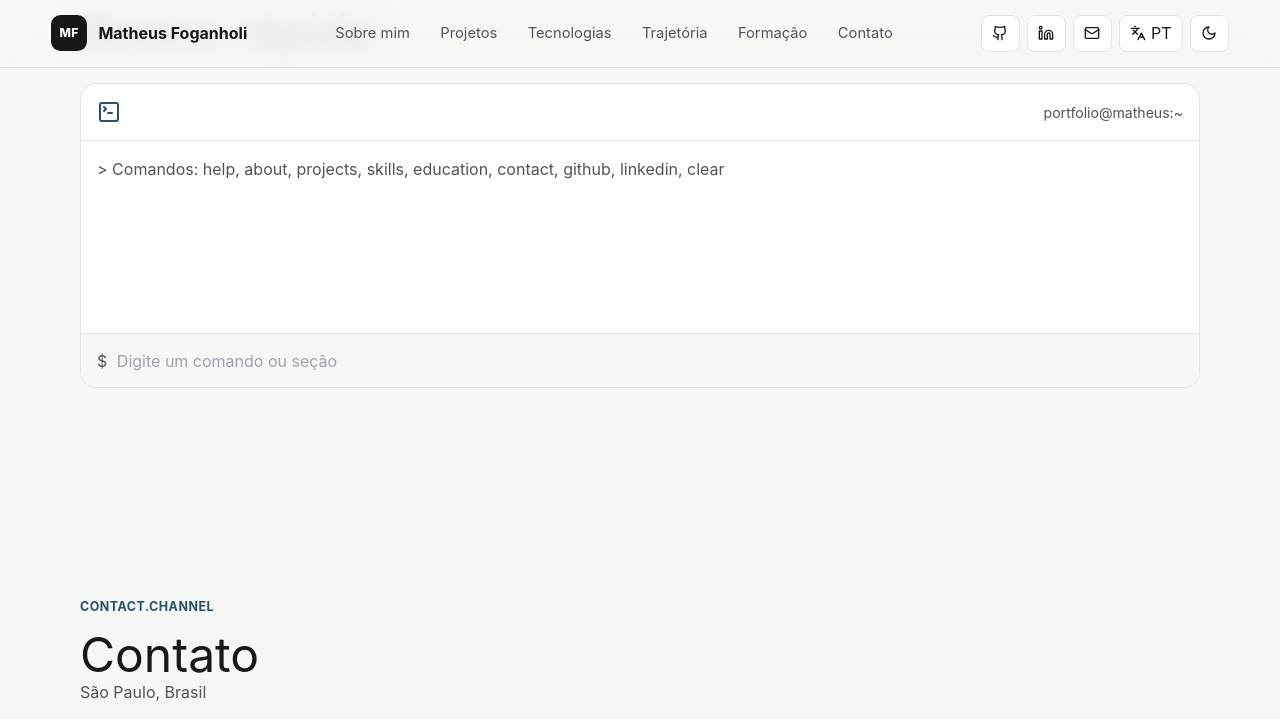
Test case: App › uses terminal commands to show portfolio data
(page scrolled)
Type "skills" into the field labelled "Digite um comando ou seção" at [650, 360], box 117,348 -> 1183,372
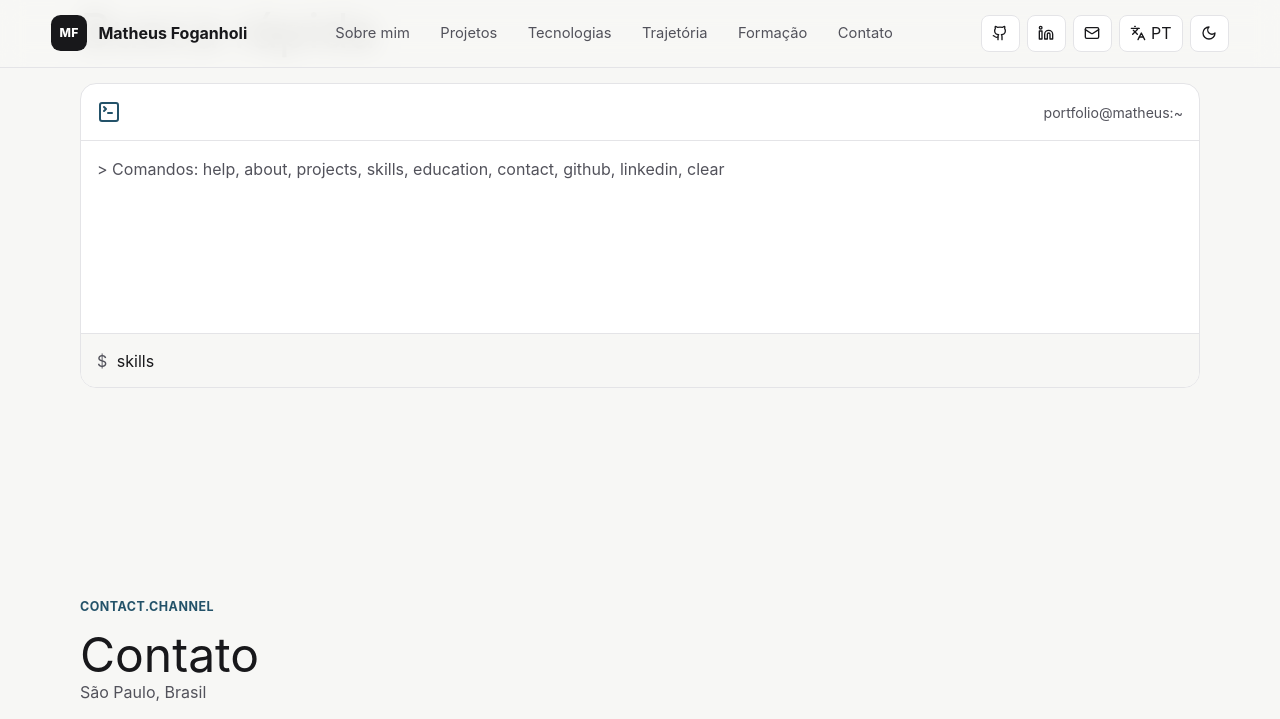
Press Enter
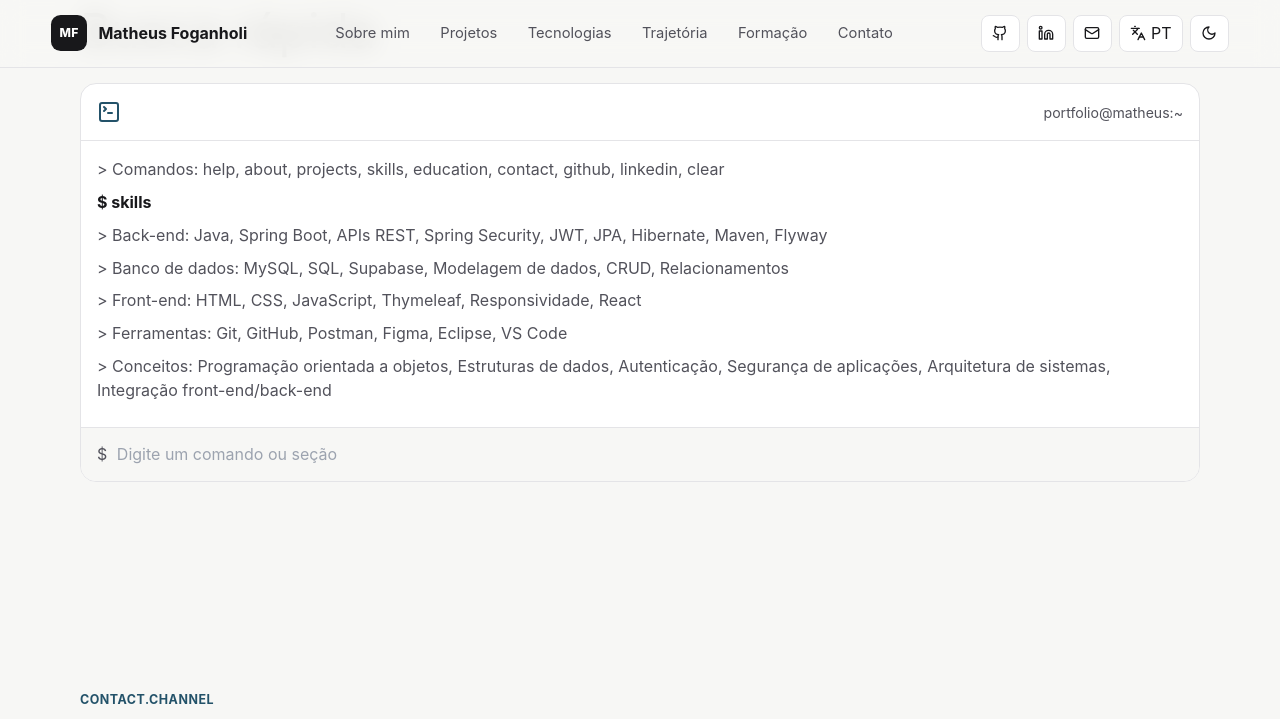
Now the text "Back-end: Java" is shown, box 112,225 -> 827,245
